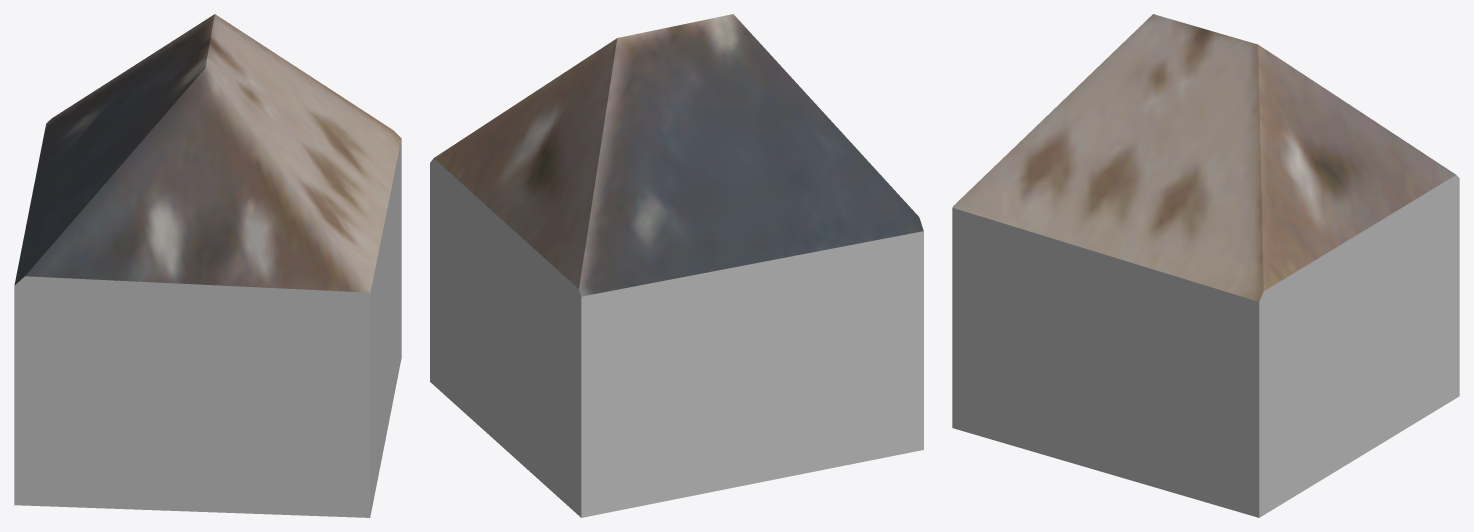
Rendered from DEBW_0010007TxcP.gltf.
3 views of the same model, side by side, from view 1: azimuth 30°, elevation 25°; view 2: azimuth 150°, elevation 25°; view 3: azimuth 270°, elevation 25° (orthographic).
Visible parts, largest first — view 1: Z_UP; view 2: Z_UP; view 3: Z_UP.
Part boxes in pixels (<box>): Z_UP: <box>14,14,401,517</box>; Z_UP: <box>430,14,923,517</box>; Z_UP: <box>952,14,1459,517</box>.
Bounding box in the file's own units: 16.15 × 13.66 × 16.35.
Materials: 2 (1 with a texture image).
